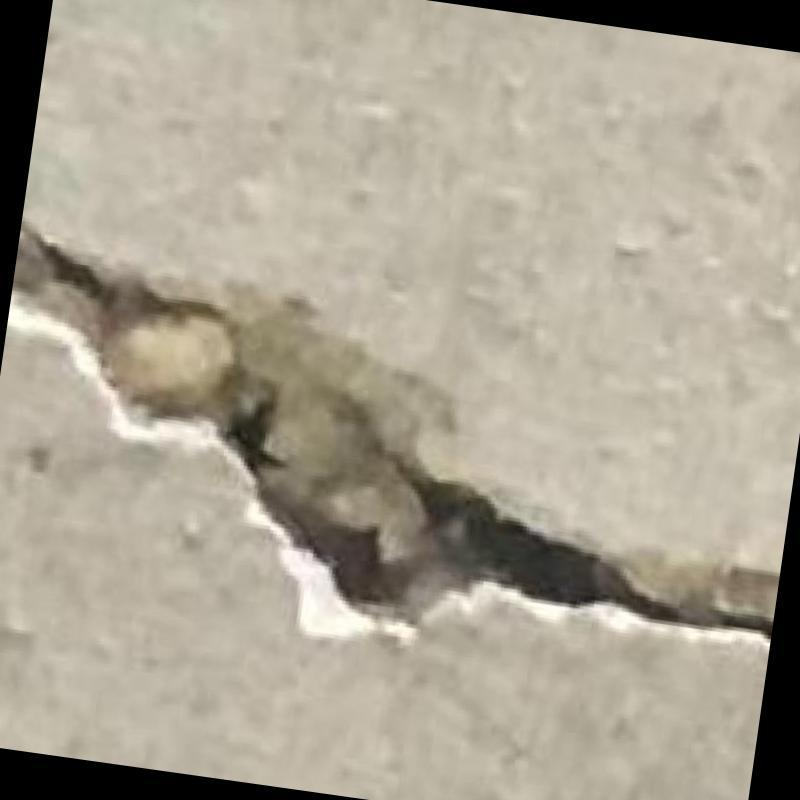pothole: (12, 223, 771, 636)
